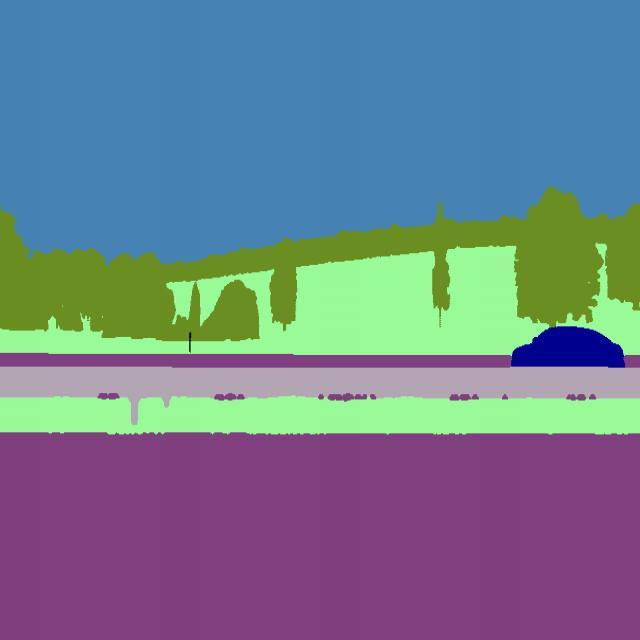safe: (507, 320, 628, 374)
